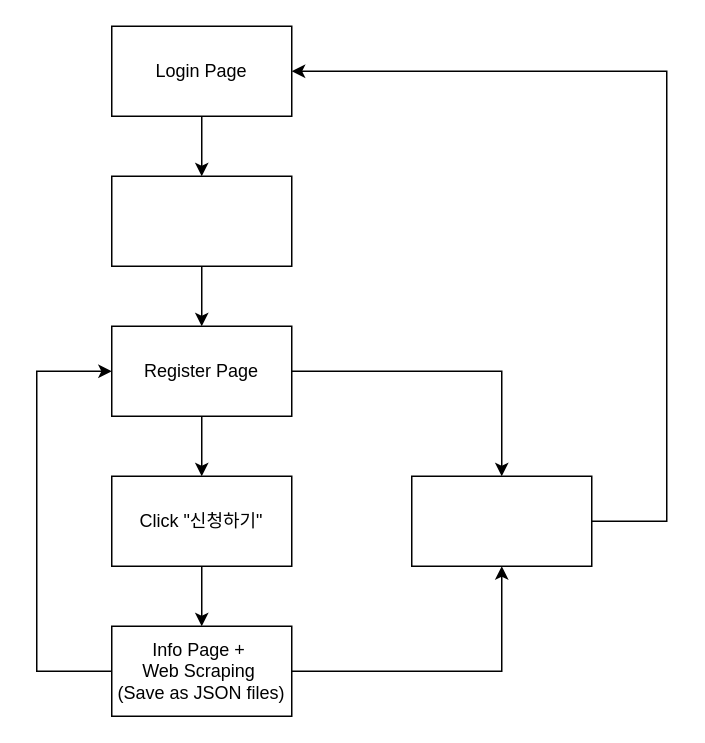
Some shapes in this 705 by 743 pixel diagram are drawn without their labels. Each missing label, with the centre of its shape:
"Login" belongs at pixel 201 220.
"Logout" belongs at pixel 501 520.
